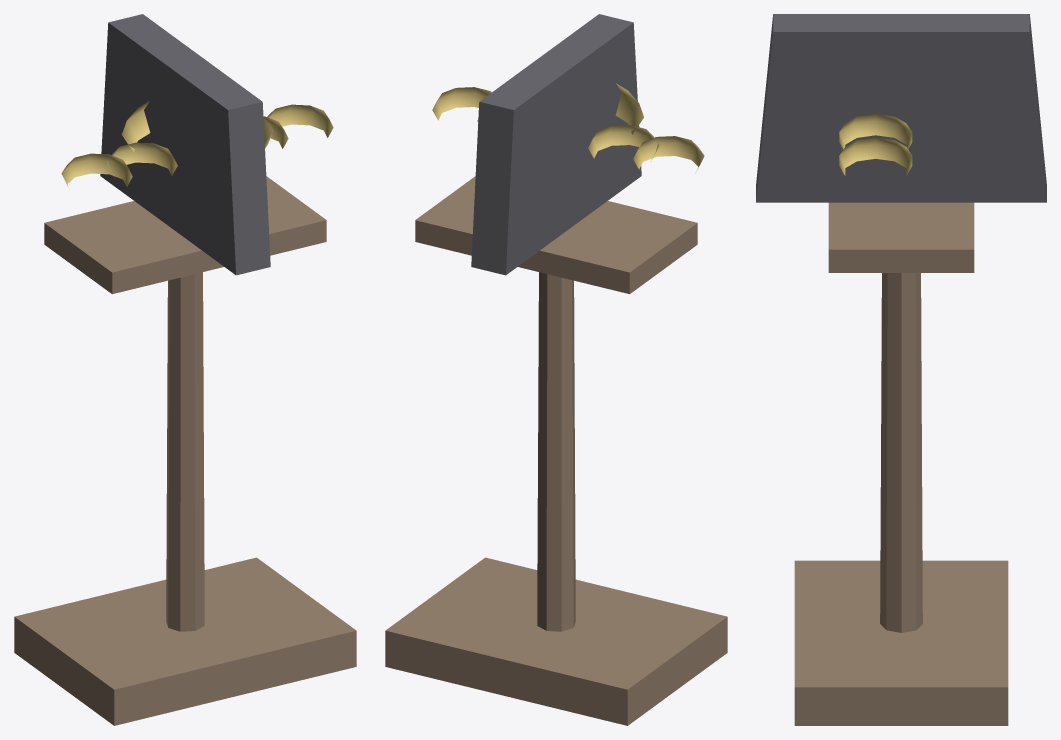
File: trophy_belt.glb
3 renders of one model, left to right at view 1: azimuth 30°, elevation 25°; view 2: azimuth 150°, elevation 25°; view 3: azimuth 270°, elevation 25°, orthographic. The views are drawn at different scales.
Parts seen in each view (by area): view 1: trophy-belt-stand; view 2: trophy-belt-stand; view 3: trophy-belt-stand.
Boxes of the visible parts, x1=… form: trophy-belt-stand: x1=14, y1=14, x2=356, y2=725; trophy-belt-stand: x1=385, y1=14, x2=727, y2=725; trophy-belt-stand: x1=756, y1=14, x2=1046, y2=725.
Bounding box in the file's own units: 0.76 × 1.65 × 0.68.
